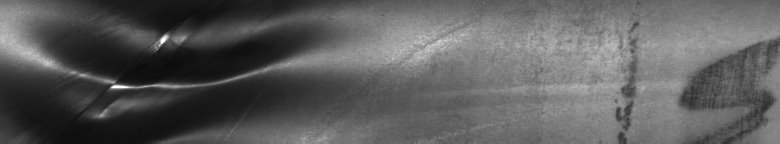ke: (38, 19, 303, 136)
